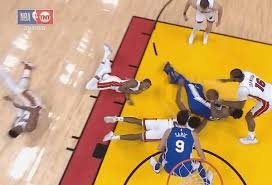falling: (159, 59, 232, 123)
